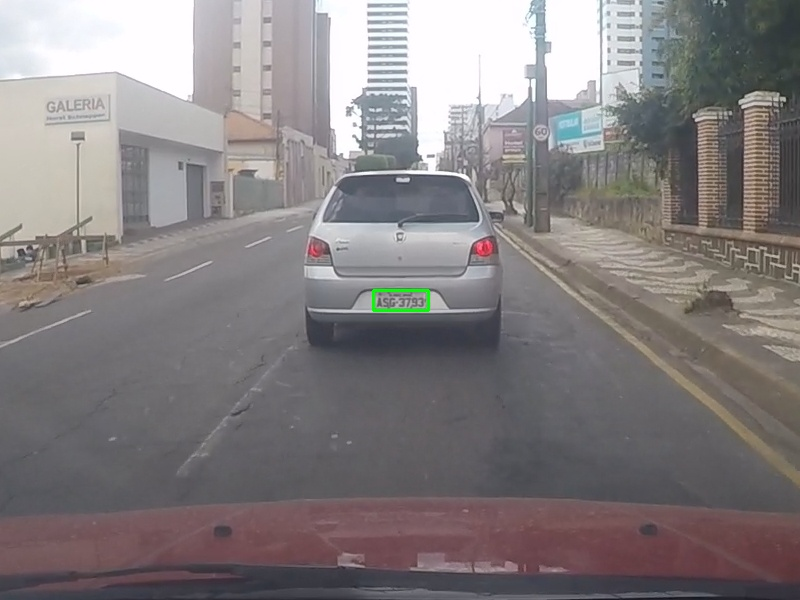placa: (373, 290, 428, 310)
